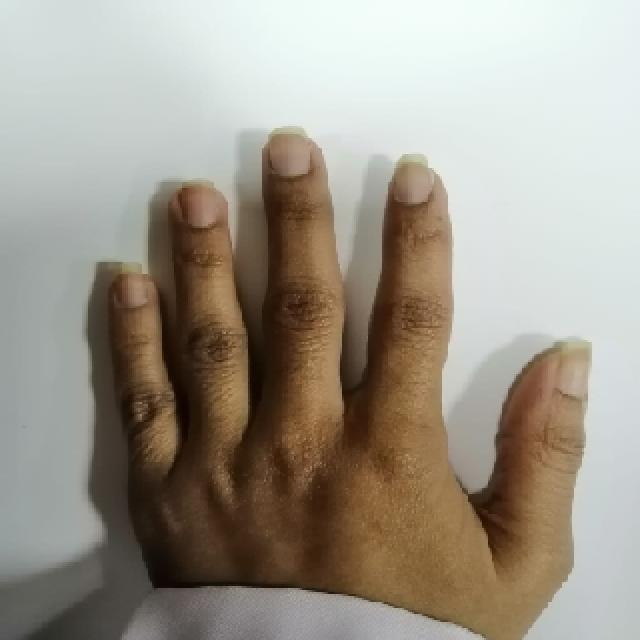Nail: (554, 341, 590, 400), (268, 130, 311, 178), (178, 184, 221, 229), (394, 155, 430, 205), (115, 279, 145, 309)
